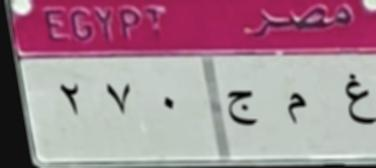0: (150, 87, 194, 126)
2: (57, 75, 85, 120)
7: (100, 79, 143, 129)
ghayn: (337, 68, 376, 134)
jeem: (219, 83, 264, 140)
meem: (276, 84, 318, 142)
